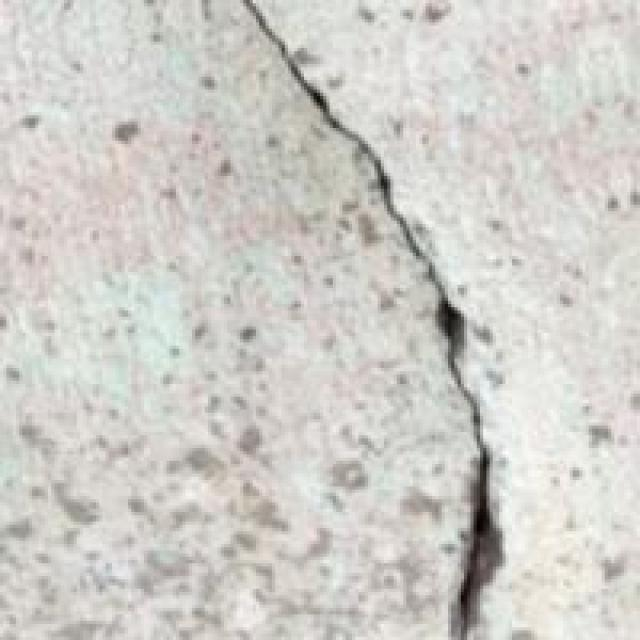Crack: (205, 0, 547, 637)
